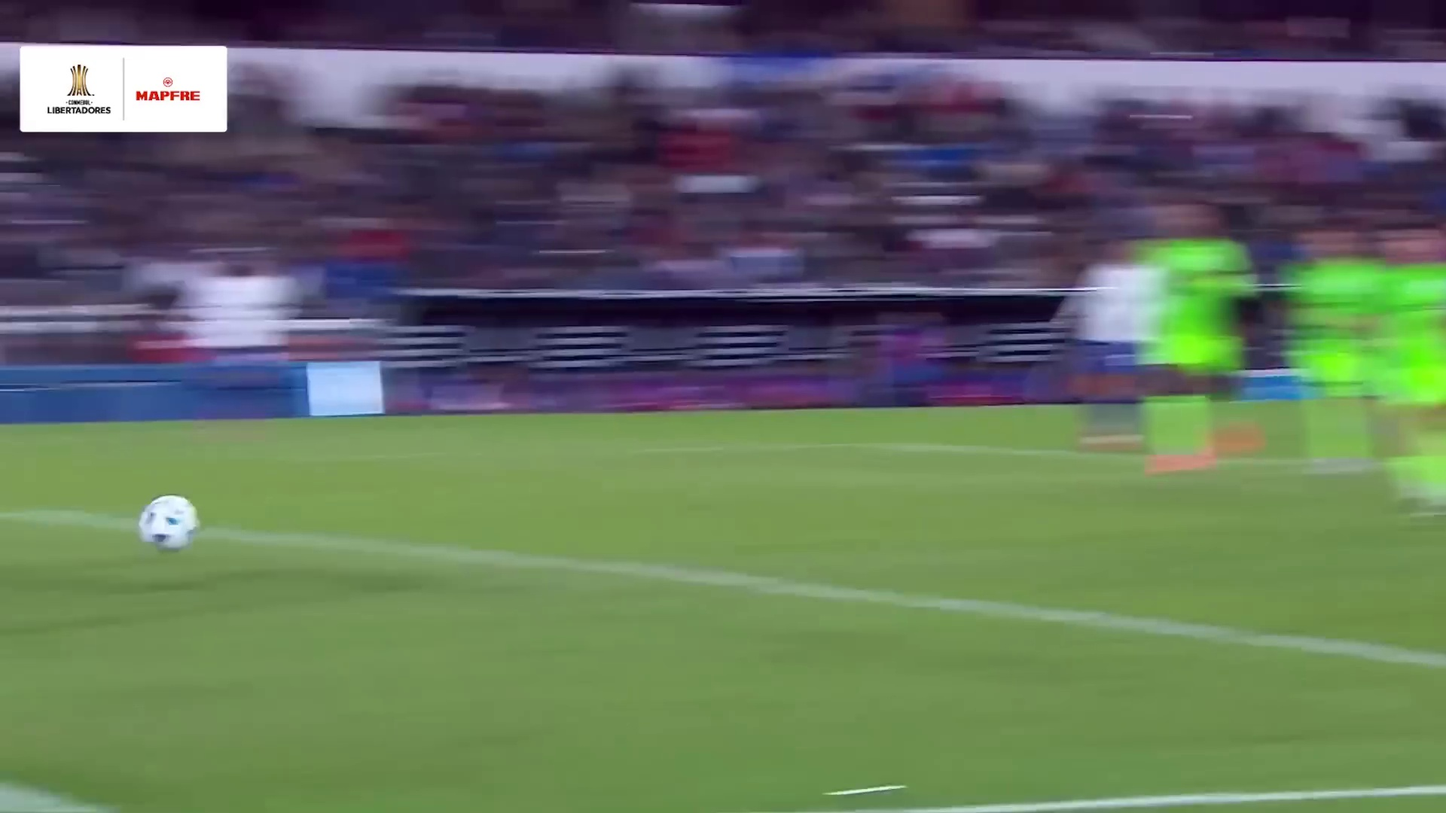ball: (132, 490, 204, 560)
player: (1125, 195, 1250, 489), (1272, 220, 1393, 492), (1356, 226, 1446, 523), (1048, 240, 1165, 460)
